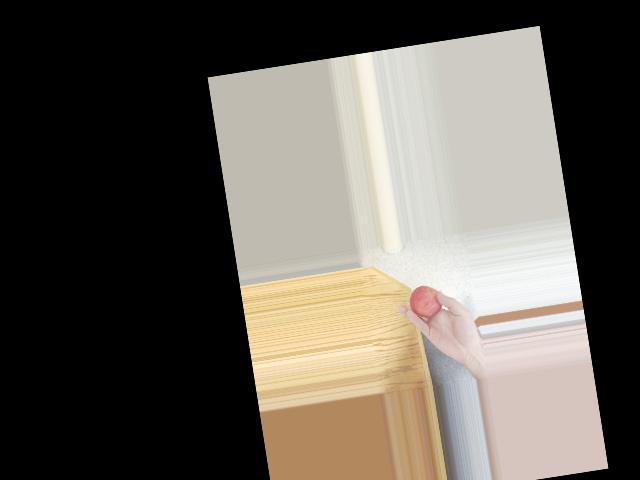apple: (407, 283, 444, 322)
